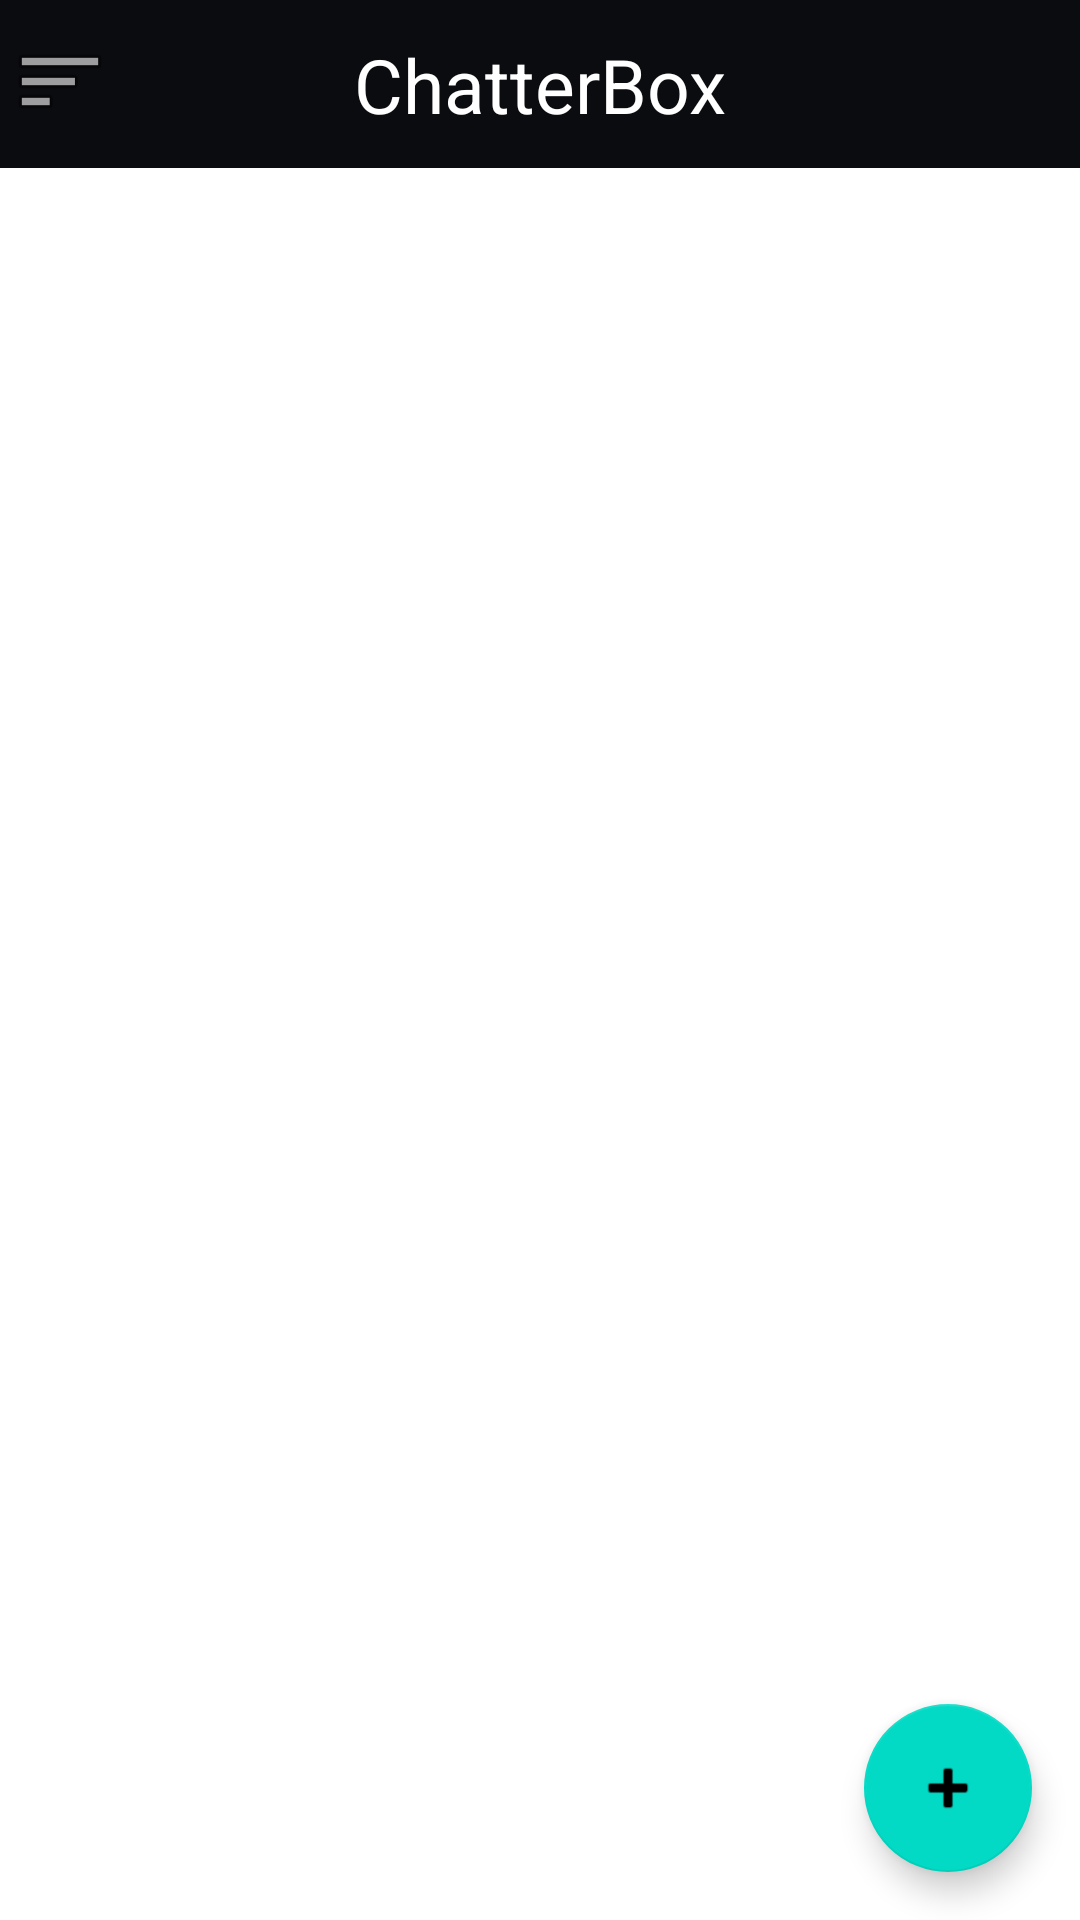

Where icons sit on this 1080px×1920px app screen, as (x1, y1, x2, y2):
add: (864, 1704, 1032, 1872)
sort by size: (22, 58, 98, 105)
